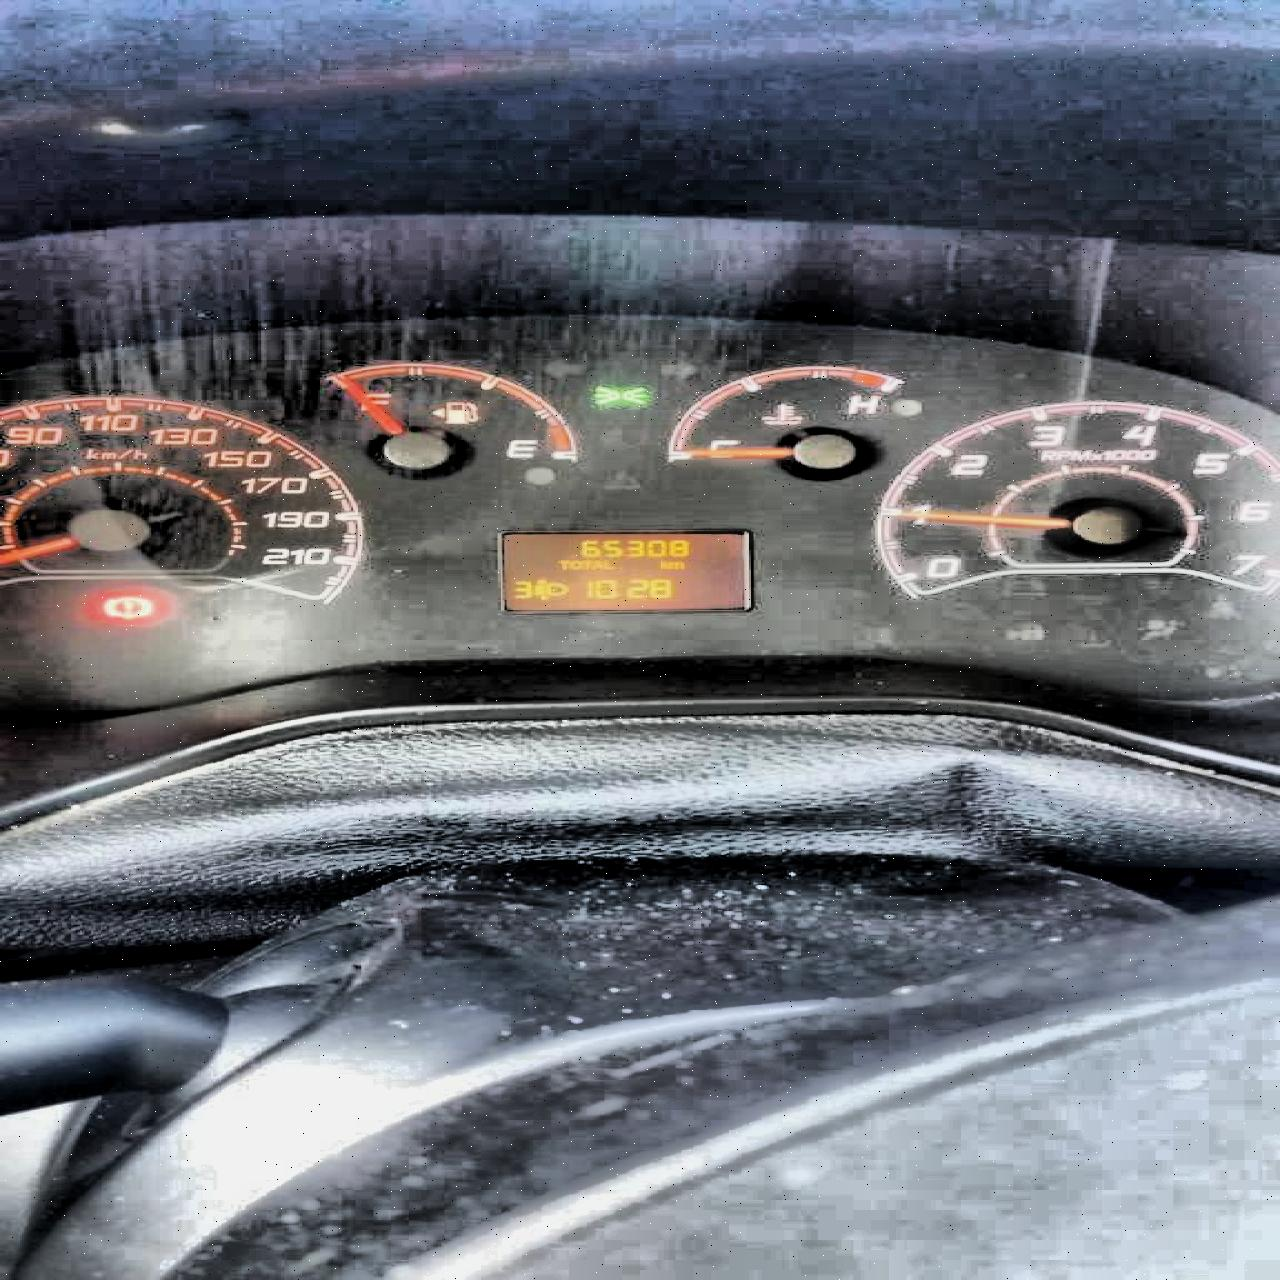0: (591, 579, 618, 598), (645, 539, 667, 554)
1: (583, 579, 593, 598)
2: (625, 578, 647, 598)
3: (511, 580, 531, 598), (625, 540, 642, 554)
5: (600, 539, 620, 557)
6: (578, 539, 598, 557)
8: (649, 578, 670, 598), (667, 539, 687, 554)
X: (667, 560, 685, 568), (602, 559, 618, 568), (591, 559, 602, 570), (567, 559, 580, 568), (556, 559, 566, 568), (580, 559, 591, 568), (658, 558, 667, 568)
odometer: (496, 529, 749, 613)
